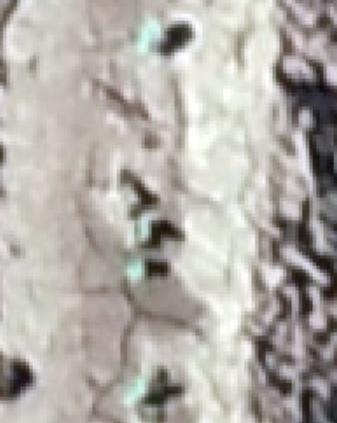cotton: (140, 19, 161, 50), (133, 215, 153, 242), (129, 376, 150, 400), (133, 259, 144, 280)
